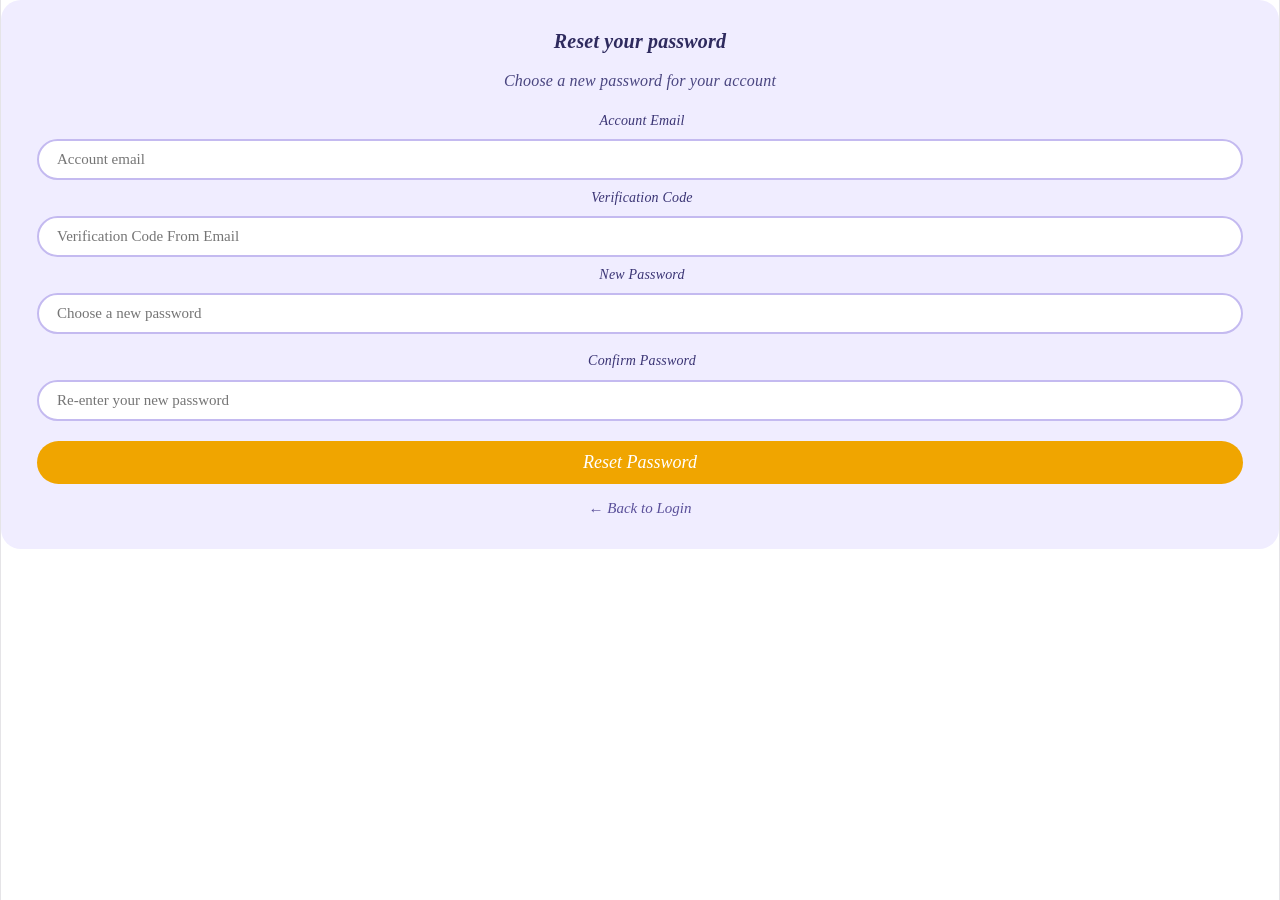
Test: ResetPassword Page Unit Tests › shows error if passwords do not match
Type "travis@ucf.edu" into the field with placeholder "Account email".
click(640, 160); type("travis@ucf.edu")  # box left=37, top=139, right=1243, bottom=180
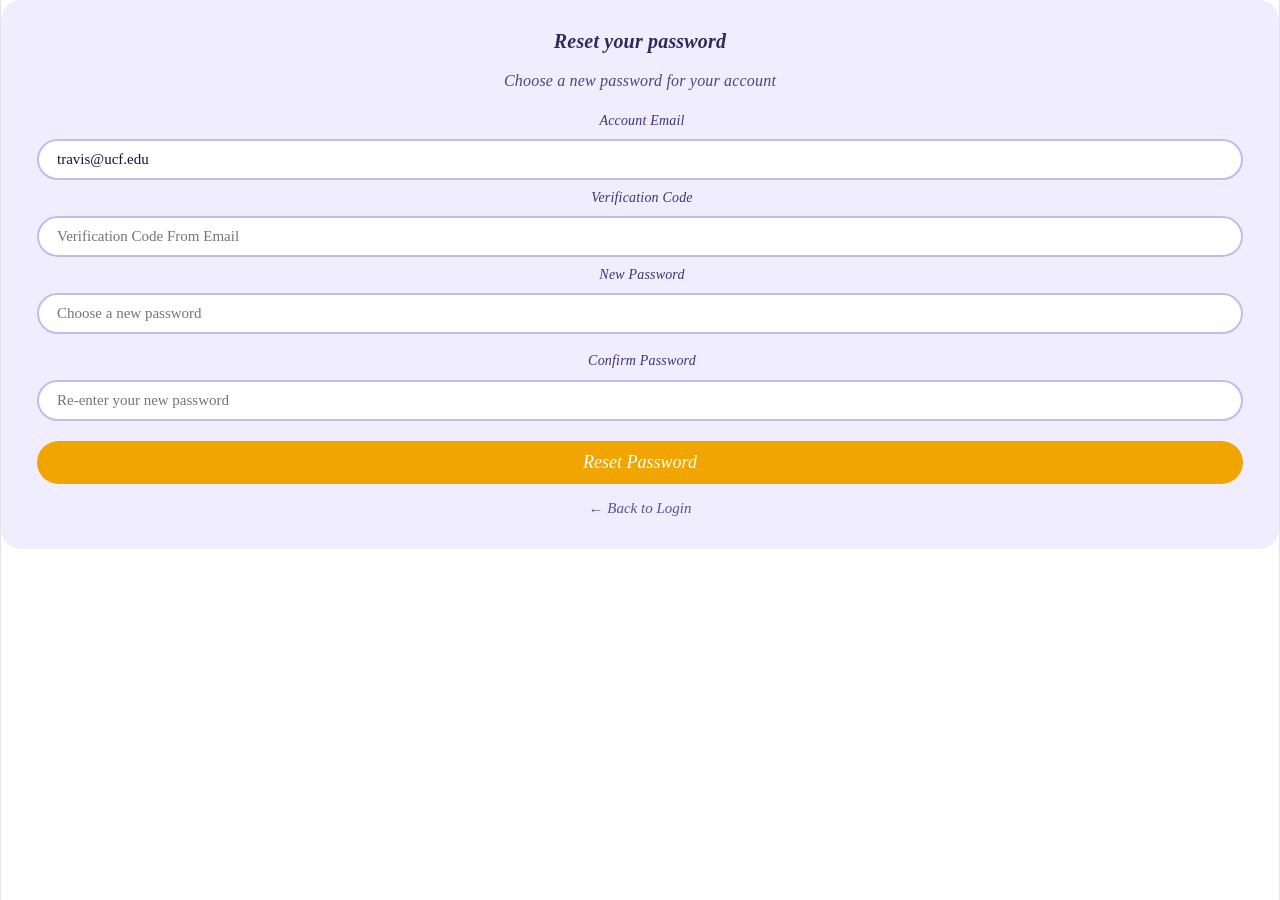
Type "12345" into the field with placeholder "Verification Code From Email".
click(640, 237); type("12345")  # box left=37, top=216, right=1243, bottom=257
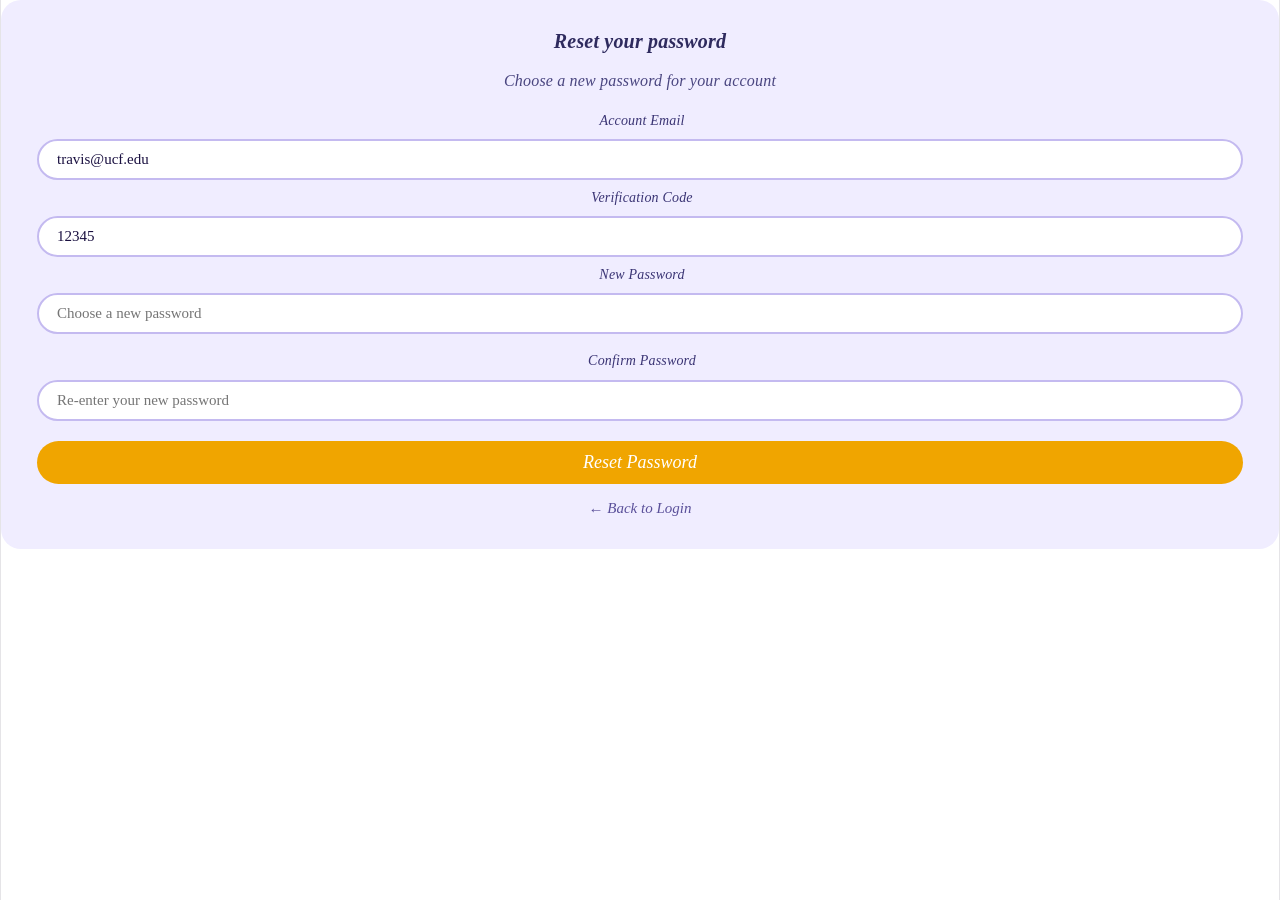
Type "NewPass123" into the password field with placeholder "Choose a new password".
click(640, 314); type("NewPass123")  # box left=37, top=294, right=1243, bottom=334
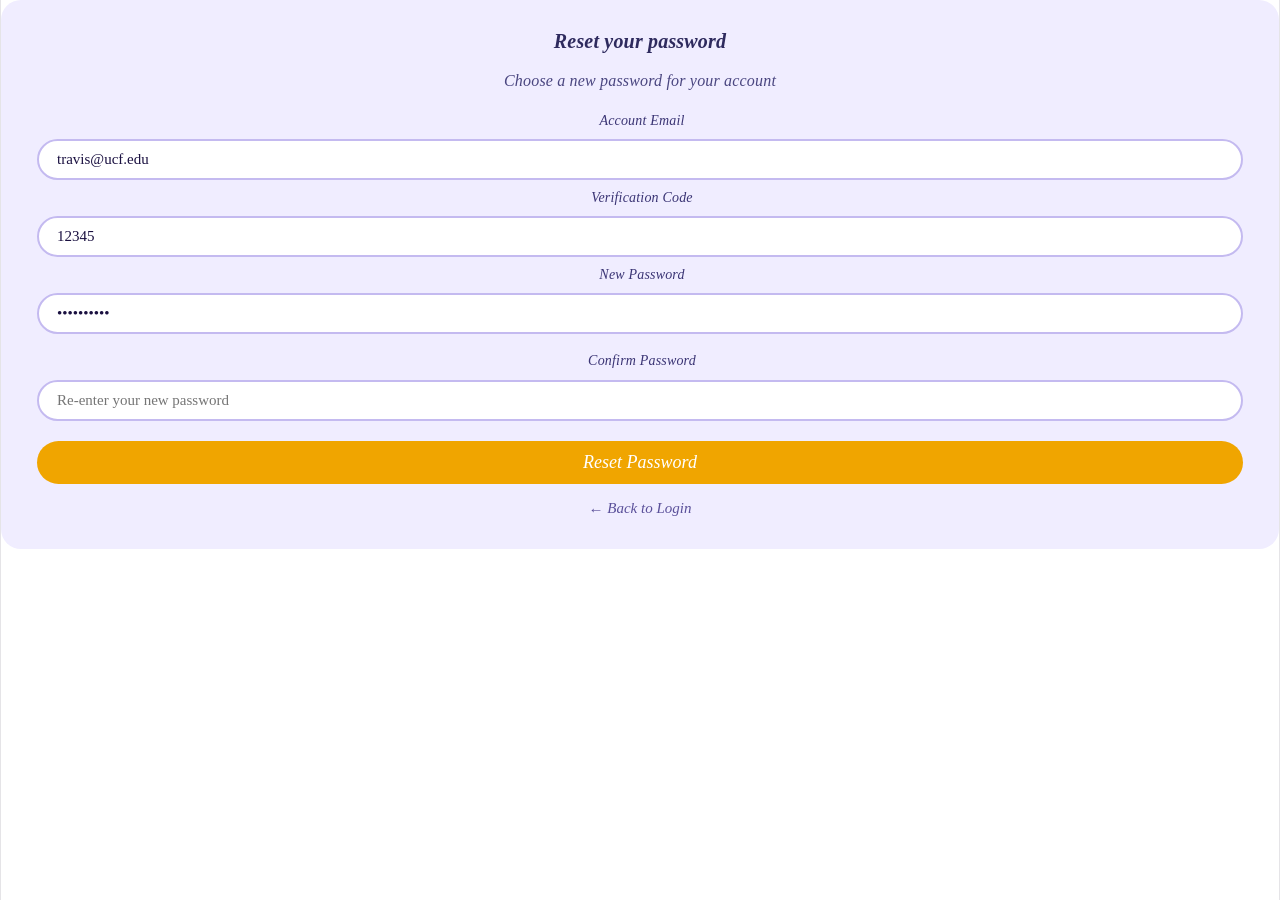
Type "WrongPass123" into the password field with placeholder "Re-enter your new password".
click(640, 400); type("WrongPass123")  # box left=37, top=380, right=1243, bottom=421
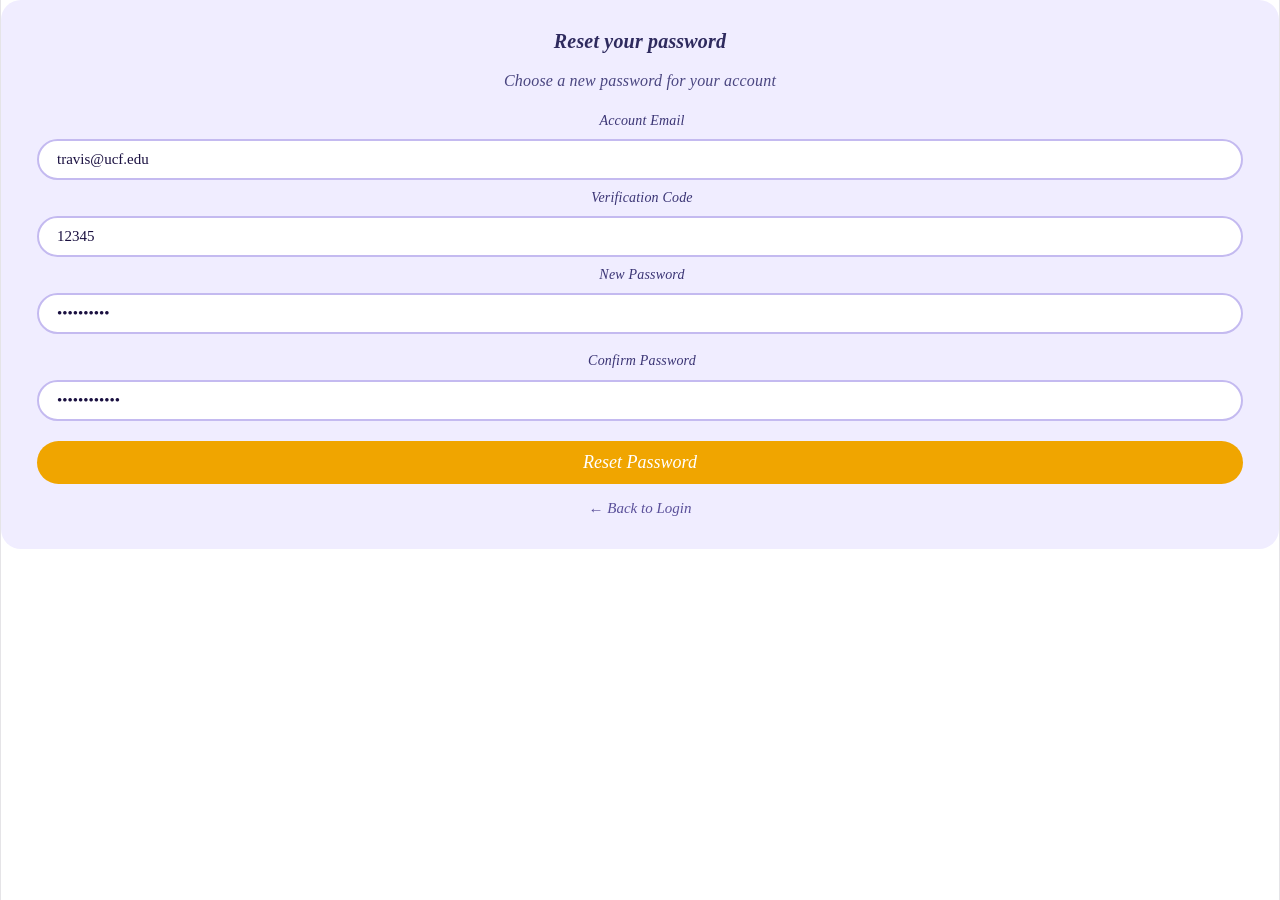
Click the button "Reset Password".
click(640, 462)  # box left=37, top=441, right=1243, bottom=484
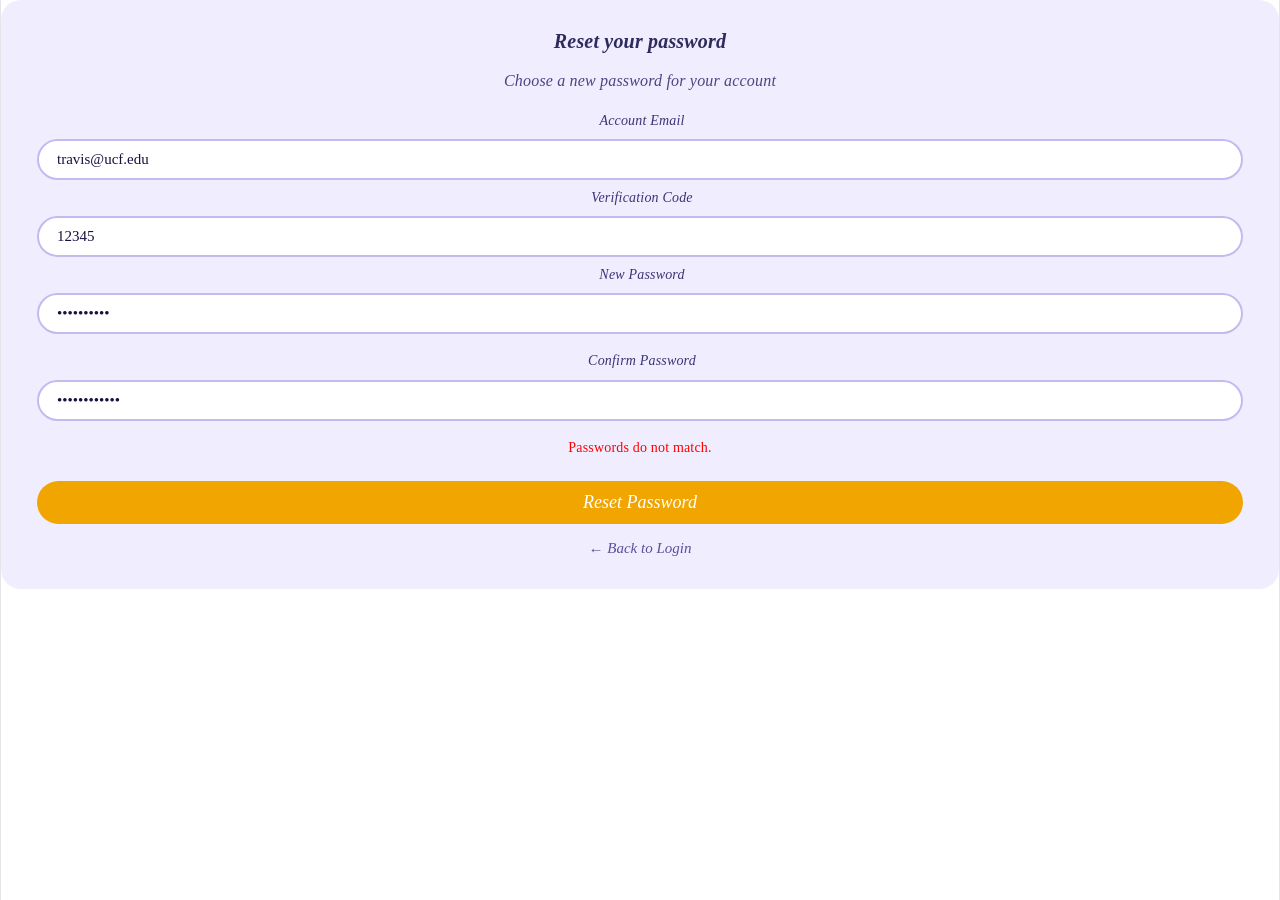
expect the text "Passwords do not match." is shown: met, box left=568, top=440, right=712, bottom=455
